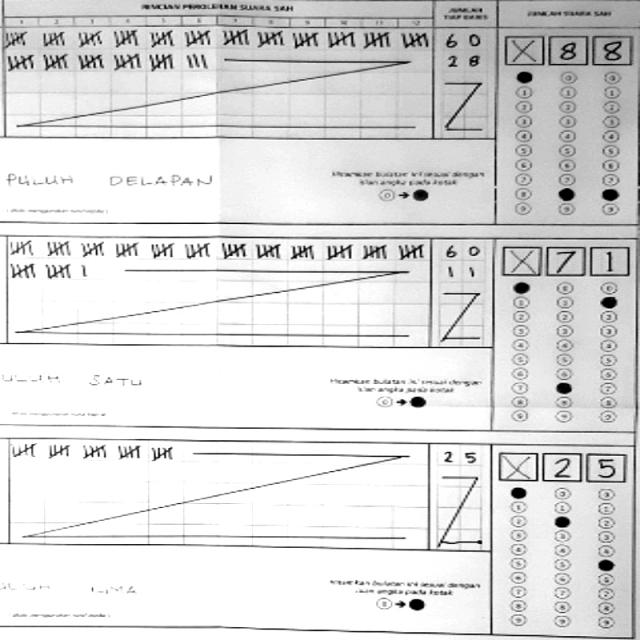Suara: (500, 27, 634, 68), (500, 238, 630, 278), (494, 447, 626, 483)
